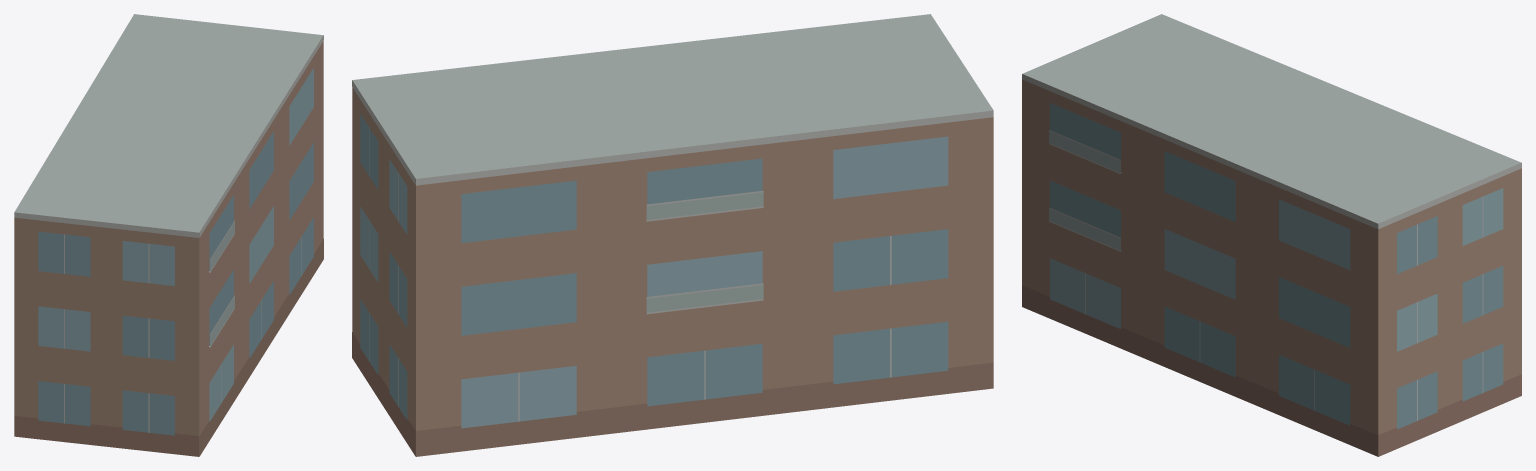
Rendered from survey-upis-32989190.glb.
3 renders of one model, left to right at view 1: azimuth 30°, elevation 25°; view 2: azimuth 150°, elevation 25°; view 3: azimuth 270°, elevation 25°, orthographic. The views are drawn at different scales.
Parts seen in each view (by area): view 1: survey-upis-32989190.tmp; view 2: survey-upis-32989190.tmp; view 3: survey-upis-32989190.tmp.
Part boxes in pixels (left/top/right/bottom): survey-upis-32989190.tmp: left=14, top=14, right=323, bottom=456; survey-upis-32989190.tmp: left=352, top=14, right=993, bottom=456; survey-upis-32989190.tmp: left=1022, top=14, right=1521, bottom=456.
Size of the model in its own units: 19.89 by 10.3 by 20.02.
